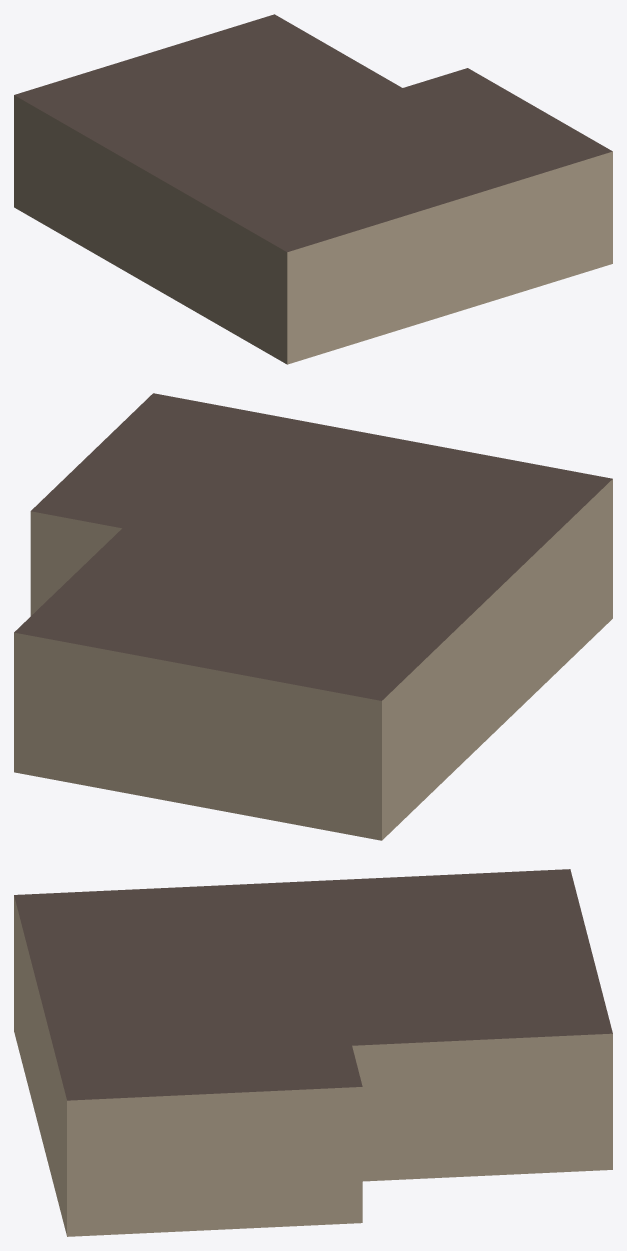
3 views of the same model, one above another, from view 1: azimuth 30°, elevation 25°; view 2: azimuth 150°, elevation 25°; view 3: azimuth 270°, elevation 25° (orthographic). The views are drawn at different scales.
Visible parts, largest first — view 1: HP-w859424126; view 2: HP-w859424126; view 3: HP-w859424126.
Part boxes in pixels (<box>): HP-w859424126: <box>14,14,612,364</box>; HP-w859424126: <box>14,393,612,840</box>; HP-w859424126: <box>14,869,612,1236</box>.
Size of the model in its own units: 32.81 by 9 by 35.87.
